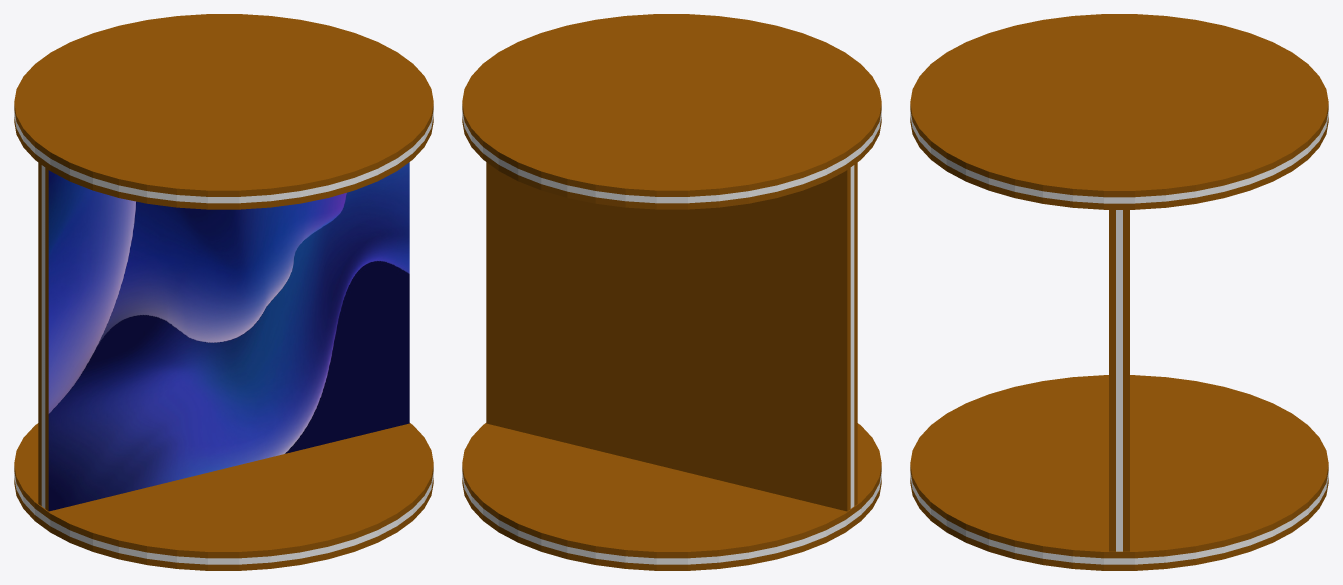
File: valve_7.glb
3 renders of one model, left to right at view 1: azimuth 30°, elevation 25°; view 2: azimuth 150°, elevation 25°; view 3: azimuth 270°, elevation 25°, orthographic.
Visible parts, largest first — view 1: Cube.017; view 2: Cube.017; view 3: Cube.017.
Boxes of the visible parts, box(x1,y1,x2,y2) form: Cube.017: box(14, 14, 433, 570); Cube.017: box(462, 14, 881, 570); Cube.017: box(910, 14, 1328, 570).
Size of the model in its own units: 2 by 2 by 2.
3 materials, 1 textured.
